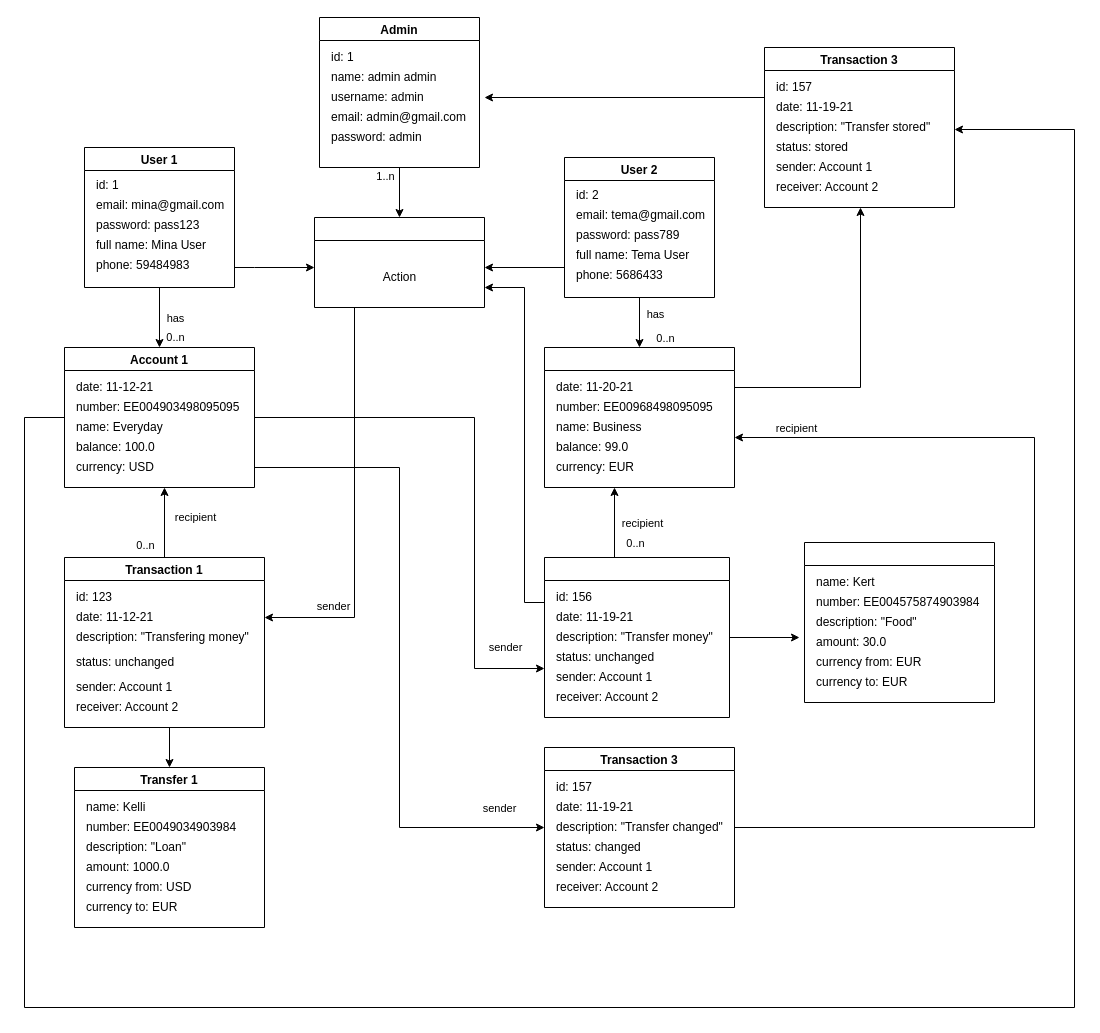
Some shapes in this 1100 by 1033 pixel diagram are drawn without their labels. The box of each missing label's shape, as (x1, y1, x2, y2) in pixels:
Account 2: (544, 346, 734, 488)
Bank: (314, 216, 484, 308)
Transaction 2: (544, 556, 730, 718)
Transfer 2: (804, 542, 994, 702)
